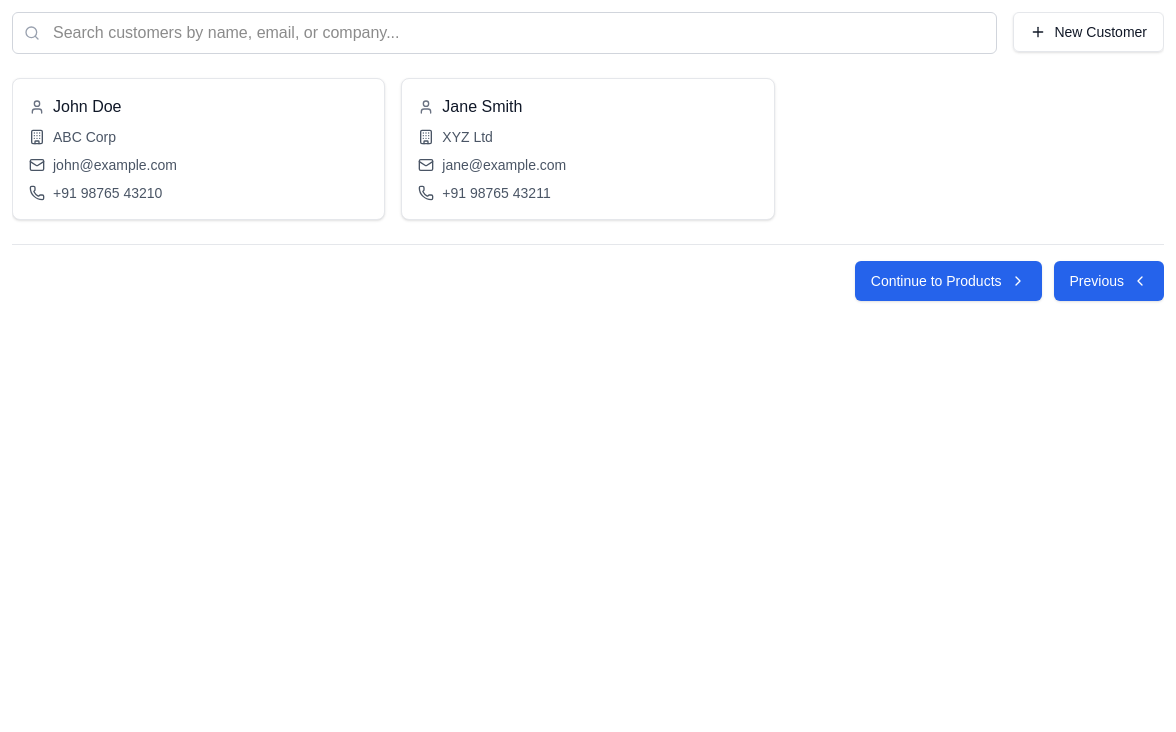
Test: CustomerSelectionStep › shows new customer form when toggle is clicked
Click the button "New Customer" at (1089, 32), box x1=1013 y1=12 x2=1164 y2=52
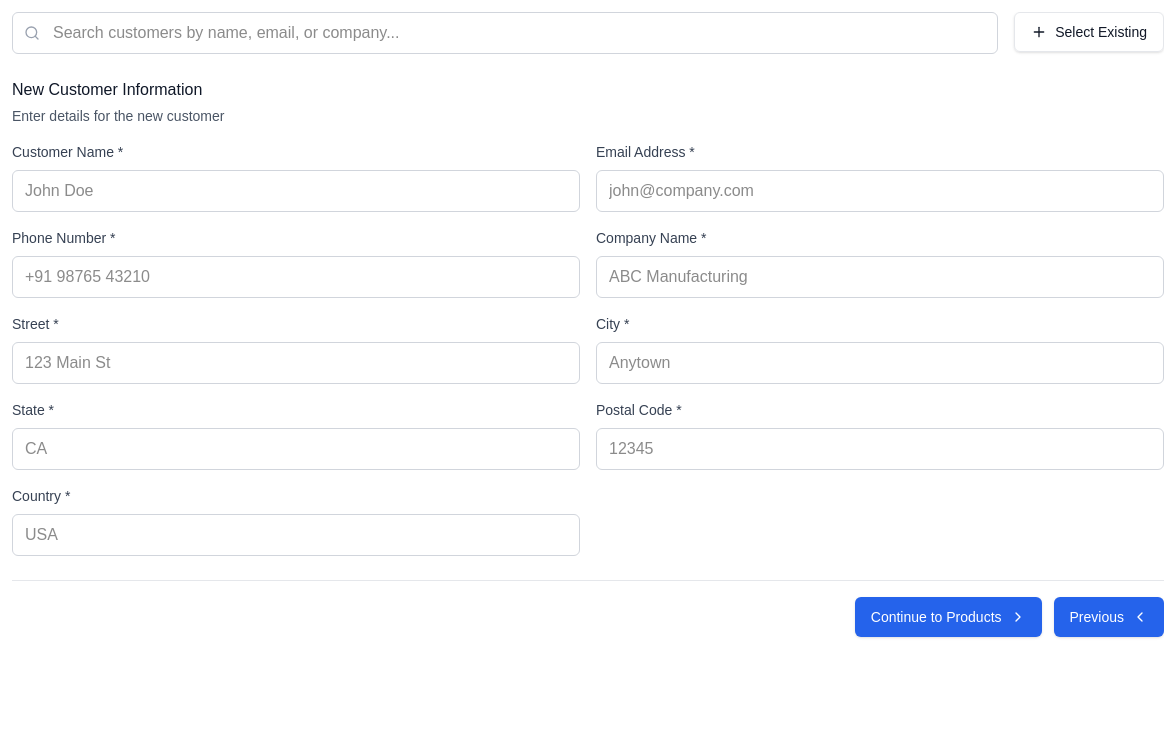
Expected: the heading "New Customer Information" is shown, x1=12 y1=81 x2=202 y2=98
Expected: the field with placeholder "John Doe" is shown, x1=12 y1=170 x2=580 y2=212
Expected: the field with placeholder "john@company.com" is shown, x1=596 y1=170 x2=1164 y2=212
